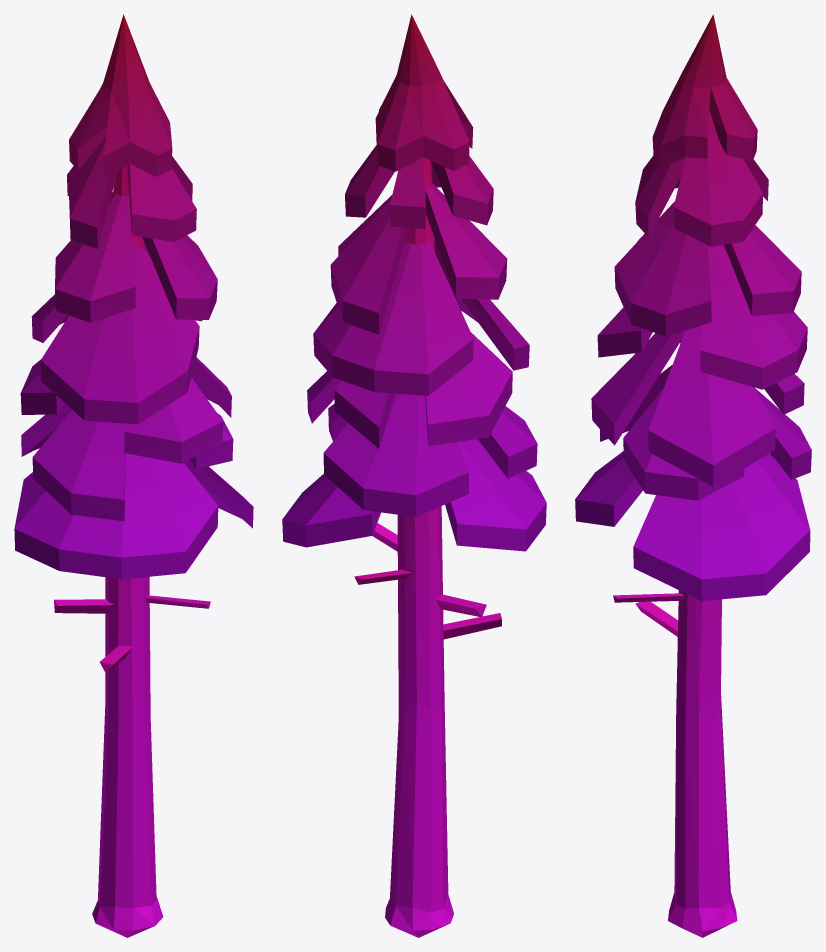
The model's file is SM_Gen_Env_Tree_Pine_02.glb.
3 renders of one model, left to right at view 1: azimuth 30°, elevation 25°; view 2: azimuth 150°, elevation 25°; view 3: azimuth 270°, elevation 25°, orthographic.
Parts seen in each view (by area): view 1: SM_Gen_Env_Tree_Pine_022; view 2: SM_Gen_Env_Tree_Pine_022; view 3: SM_Gen_Env_Tree_Pine_022.
Part boxes in pixels (x1,y1,x2,y2): SM_Gen_Env_Tree_Pine_022: (14, 14, 253, 937); SM_Gen_Env_Tree_Pine_022: (282, 14, 546, 937); SM_Gen_Env_Tree_Pine_022: (575, 14, 811, 937).
Bounding box in the file's own units: 1.78 × 6.91 × 1.6.
